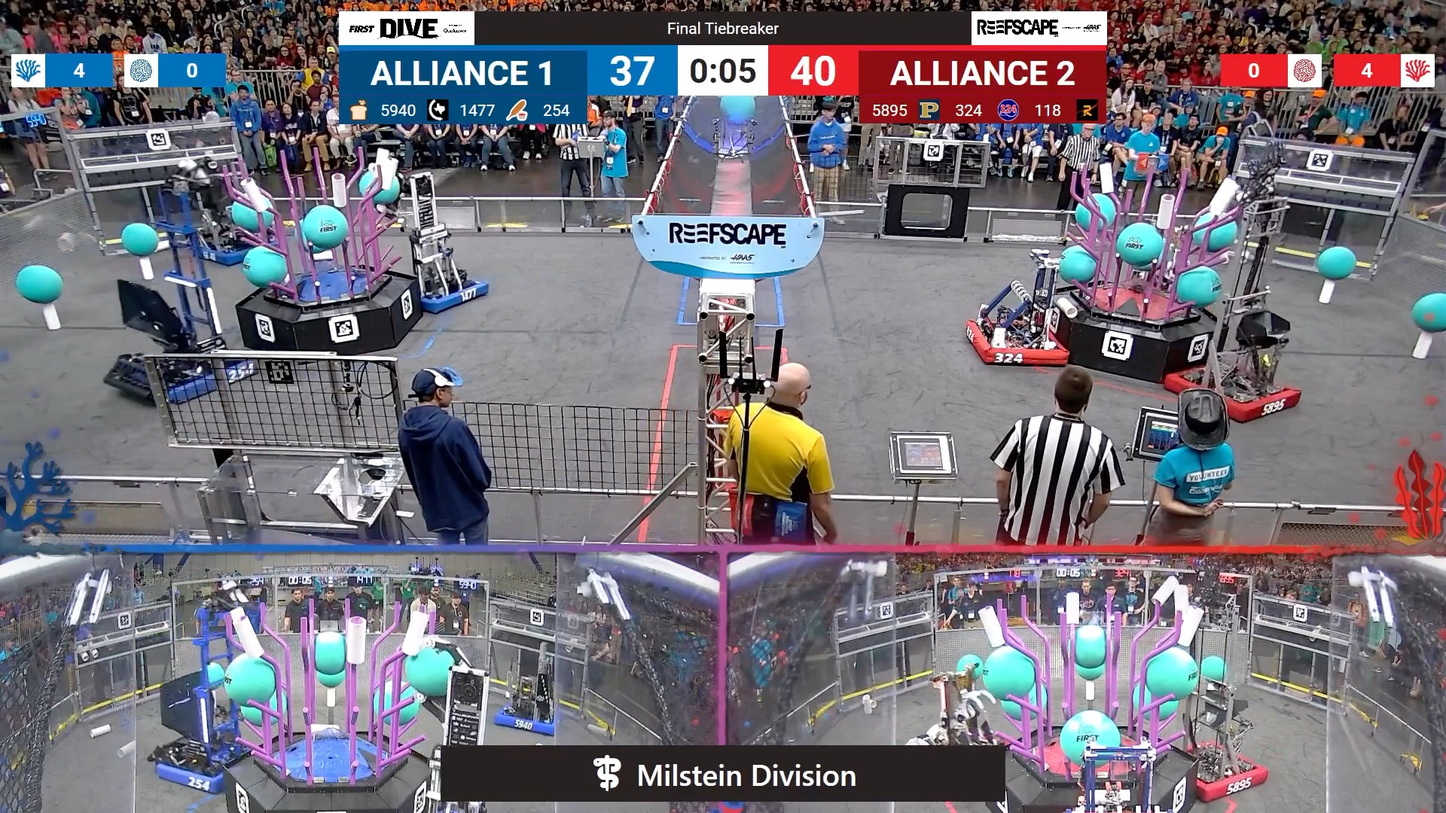bumpers: (1173, 372, 1312, 430), (114, 348, 257, 404), (962, 313, 1078, 374), (1173, 745, 1276, 802), (147, 742, 255, 793), (402, 273, 496, 317), (489, 699, 566, 738), (187, 242, 266, 268)
